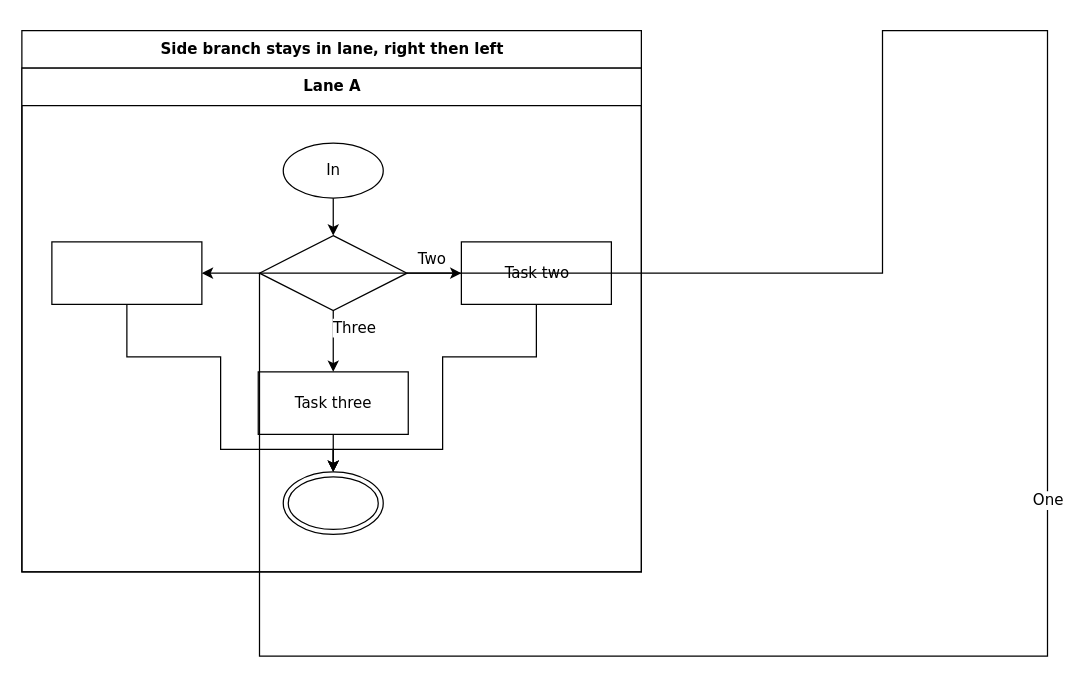
Image size: 1084x689. Some labels were removed from this diagram. The centre of each missing label's shape, as x and y in pixels:
Merge: pixel 332 502
Task one: pixel 126 272
Three way?: pixel 332 272
